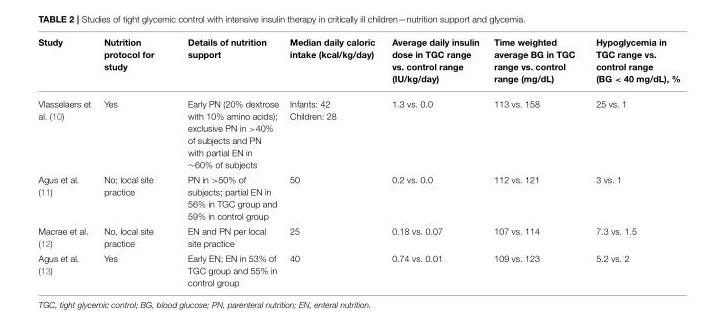table: (37, 37, 679, 287)
table column: (170, 37, 283, 287), (382, 37, 485, 287), (283, 37, 382, 287), (485, 37, 584, 287), (584, 37, 679, 287), (96, 37, 170, 287), (37, 37, 96, 287)
table column header: (37, 37, 679, 91)
table row: (37, 91, 679, 172), (37, 37, 679, 91), (37, 172, 679, 223), (37, 250, 679, 287), (37, 223, 679, 250)
